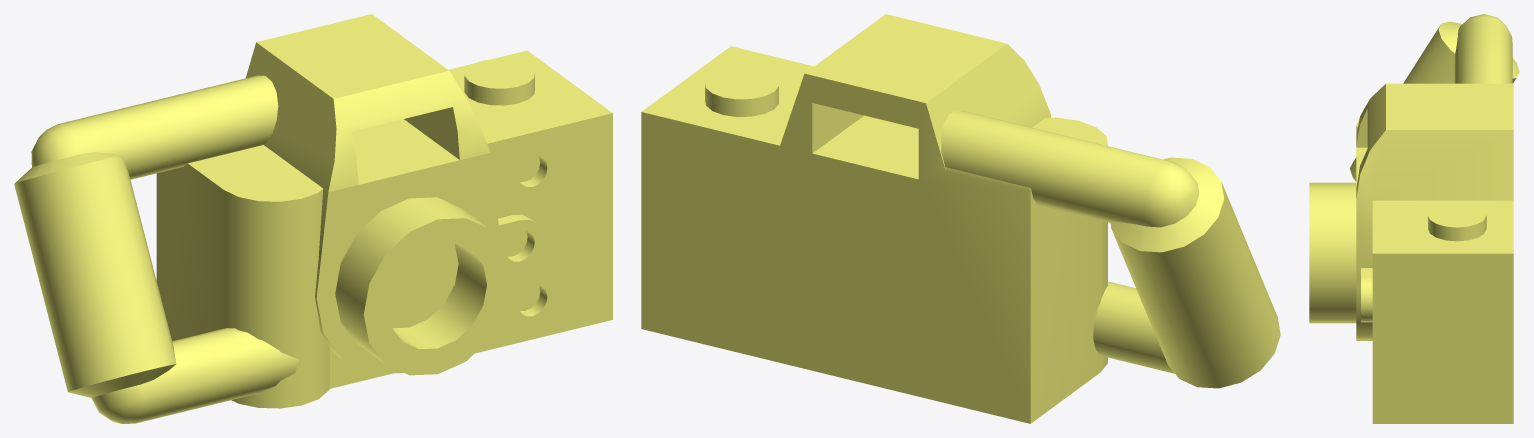
The picture shows the model from 3 angles, left to right: view 1: azimuth 30°, elevation 25°; view 2: azimuth 150°, elevation 25°; view 3: azimuth 270°, elevation 25°; orthographic projection. The views are drawn at different scales.
Visible parts, largest first — view 1: 30089b.dat; view 2: 30089b.dat; view 3: 30089b.dat.
Boxes of the visible parts, bbox=[...] form: 30089b.dat: bbox=[14, 14, 612, 423]; 30089b.dat: bbox=[641, 14, 1280, 423]; 30089b.dat: bbox=[1309, 14, 1519, 423].
Bounding box in the file's own units: 0.0171 × 0.0087 × 0.00717.
